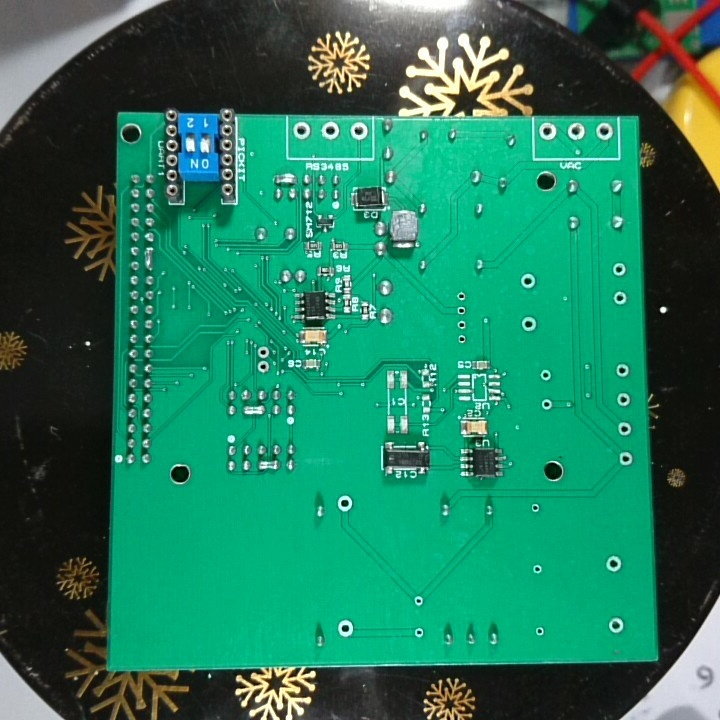F: (566, 120, 588, 143), (605, 615, 628, 637), (593, 120, 614, 143), (605, 552, 625, 576), (335, 492, 355, 516), (349, 120, 370, 142), (291, 120, 312, 141), (519, 270, 539, 292), (320, 120, 341, 140), (537, 120, 557, 141), (336, 618, 356, 638), (614, 389, 632, 410), (616, 419, 634, 440), (519, 314, 537, 334), (617, 448, 634, 469), (611, 289, 630, 306), (614, 360, 630, 380), (610, 261, 628, 278), (254, 360, 274, 375), (538, 365, 554, 383), (411, 624, 428, 640), (255, 344, 272, 359), (539, 396, 554, 412), (455, 303, 470, 318), (454, 317, 469, 332), (412, 593, 425, 609), (454, 289, 468, 303), (531, 562, 545, 575), (528, 501, 540, 515), (534, 624, 545, 639), (455, 332, 468, 343)
P: (240, 403, 267, 418), (255, 458, 282, 473), (273, 172, 299, 187), (141, 245, 155, 272)
